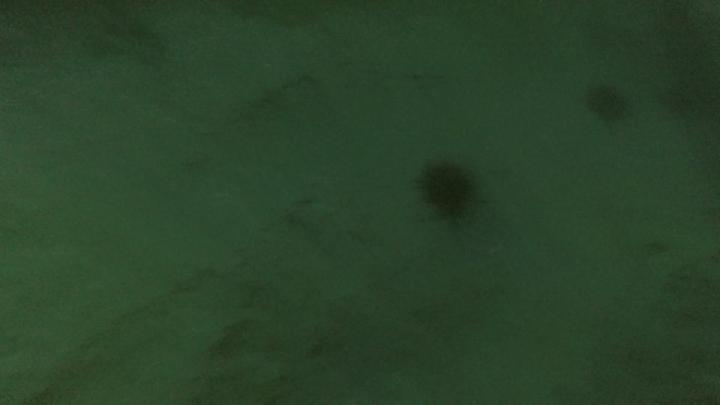echinus: (421, 165, 469, 219), (585, 87, 629, 124)
